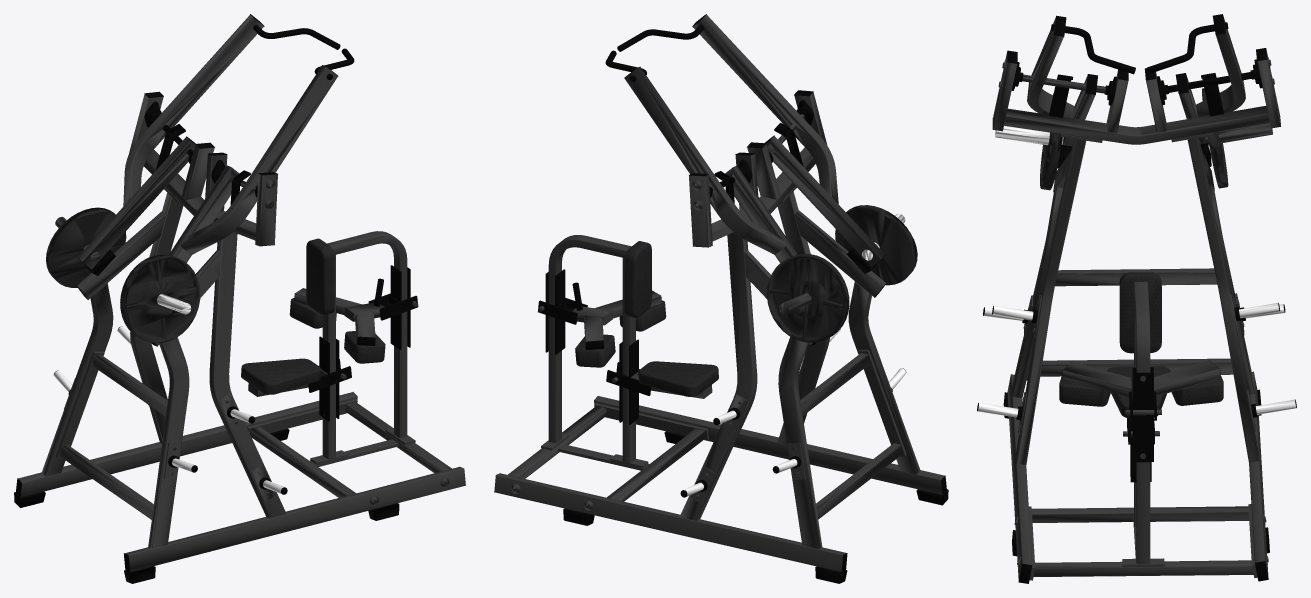
File: plate-loaded-pulldown.glb
The picture shows the model from 3 angles, left to right: view 1: azimuth 30°, elevation 25°; view 2: azimuth 150°, elevation 25°; view 3: azimuth 270°, elevation 25°; orthographic projection. The views are drawn at different scales.
Parts seen in each view (by area): view 1: plate-loaded-pulldown; view 2: plate-loaded-pulldown; view 3: plate-loaded-pulldown.
Part boxes in pixels (x1,y1,x2,y2): plate-loaded-pulldown: (14,14,465,583); plate-loaded-pulldown: (494,14,948,583); plate-loaded-pulldown: (977,14,1296,583).
Size of the model in its own units: 1.66 by 2.05 by 1.16.
5 materials, 3 textured.
